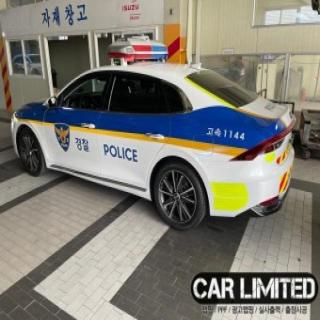Police_car: (8, 38, 295, 233)
